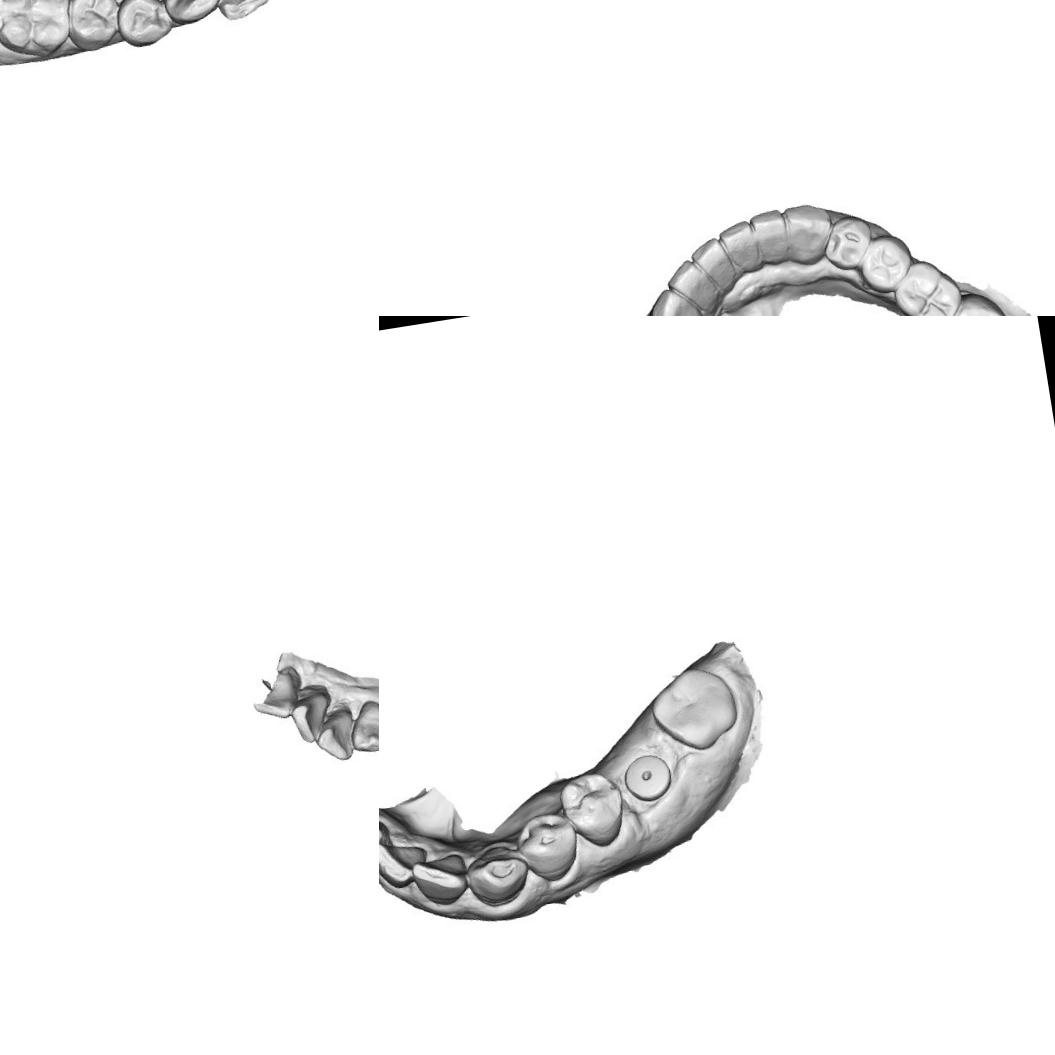canine: (464, 841, 536, 912), (780, 200, 835, 267), (640, 281, 707, 316), (343, 694, 379, 758), (154, 0, 224, 29)
implant: (622, 750, 674, 804)
incisor: (411, 847, 477, 907), (246, 664, 308, 727), (662, 255, 718, 316), (310, 701, 362, 766), (686, 235, 739, 295), (746, 204, 790, 268), (379, 833, 430, 888), (286, 688, 334, 745), (716, 218, 759, 278), (203, 0, 273, 25), (379, 809, 390, 863)
molar: (642, 657, 744, 760), (0, 0, 77, 66), (888, 253, 968, 316), (933, 285, 1017, 316)
premolar: (516, 812, 582, 882), (564, 773, 627, 845), (853, 230, 916, 299), (815, 210, 880, 276), (109, 0, 178, 53), (61, 0, 126, 56)
